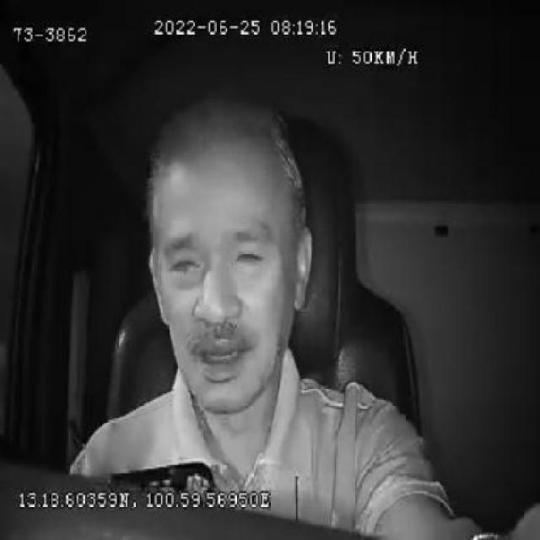phone: (101, 457, 220, 491)
